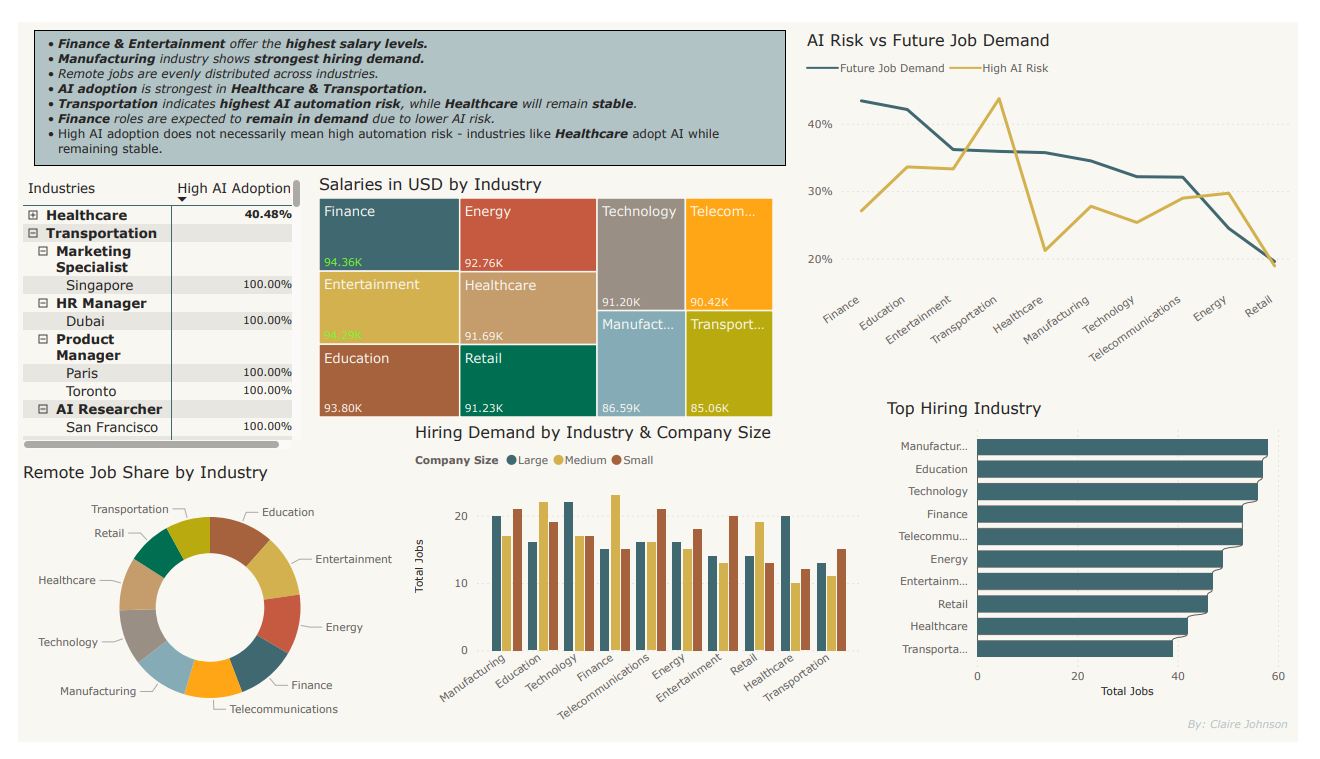

The dashboard page shown, as its layout file describes it:
{"tool":"powerbi","page":{"name":"Industry Analysis","canvas":[1280,720],"ordinal":1},"visuals":[{"type":"barChart","title":"Top Hiring Industry","fields":{"Category":["ai_job_market_insights.Industries"],"Y":["CountNonNull(ai_job_market_insights.Jobs)"]},"box":[864,376,408,304],"z":0},{"type":"treemap","title":"Salaries in USD by Industry","fields":{"Group":["ai_job_market_insights.Industries"],"Values":["Avg(ai_job_market_insights.Salary (USD))"]},"box":[296,152,464,248],"z":1000},{"type":"donutChart","title":"Remote Job Share by Industry","fields":{"Category":["ai_job_market_insights.Industries"],"Y":["Sum(ai_job_market_insights.Remote Jobs)"]},"box":[0,440,384,272],"z":2000},{"type":"clusteredColumnChart","title":"Hiring Demand by Industry & Company Size","fields":{"Category":["ai_job_market_insights.Industries"],"Y":["CountNonNull(ai_job_market_insights.Company Size)"],"Series":["Company Size.Company Size"]},"box":[392,400,456,312],"z":3000},{"type":"lineChart","title":"AI Risk vs Future Job Demand","fields":{"Category":["ai_job_market_insights.Industries"],"Y":["ai_job_market_insights.Future Job Growth"],"Y2":["ai_job_market_insights.High Automation Risk"]},"box":[784,8,496,352],"z":4000},{"type":"pivotTable","fields":{"Rows":["ai_job_market_insights.Industries Hierarchy.Industries","ai_job_market_insights.Industries Hierarchy.Jobs","ai_job_market_insights.Industries Hierarchy.Locations"],"Values":["ai_job_market_insights.High AI Adoption"]},"box":[0,152,288,280],"z":5000},{"type":"textbox","box":[16,8,752,136],"z":6000},{"type":"textbox","box":[1160,688,120,32],"z":7000}]}

Visuals, with their boxes in screenshot pixels (x1, y1, x2, y2), scaled from the page's 1280x720 canvas onto the 1320x759 screenshot:
"Top Hiring Industry" barChart: box=[891, 396, 1312, 717]
"Salaries in USD by Industry" treemap: box=[305, 160, 784, 422]
"Remote Job Share by Industry" donutChart: box=[0, 464, 396, 751]
"Hiring Demand by Industry & Company Size" clusteredColumnChart: box=[404, 422, 874, 751]
"AI Risk vs Future Job Demand" lineChart: box=[808, 8, 1319, 380]
pivotTable - ai_job_market_insights.Industries Hierarchy.Industries x ai_job_market_insights.Industries Hierarchy.Jobs: box=[0, 160, 297, 455]
textbox: box=[16, 8, 792, 152]
textbox: box=[1196, 725, 1319, 758]
